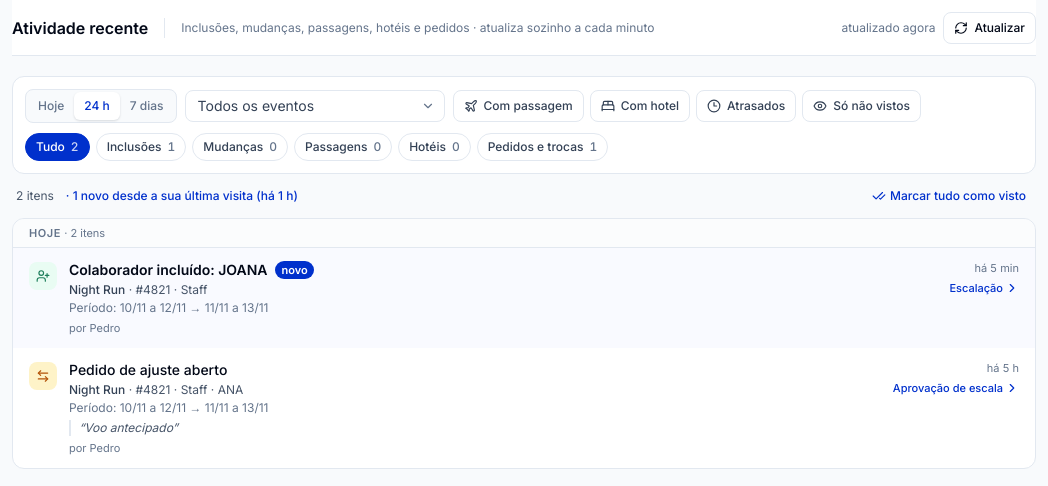
Test: Atividade recente › 'Só não vistos' esconde o que já foi visto; 'Marcar tudo como visto' tira os selos e grava a visita
The image size is (1048, 486).
Expected: the link with test id "atividade-a1" is shown, [13,248,1035,348]
Click the button with test id "filtro-nao-vistos" at (862, 106), box [802,90,921,122]
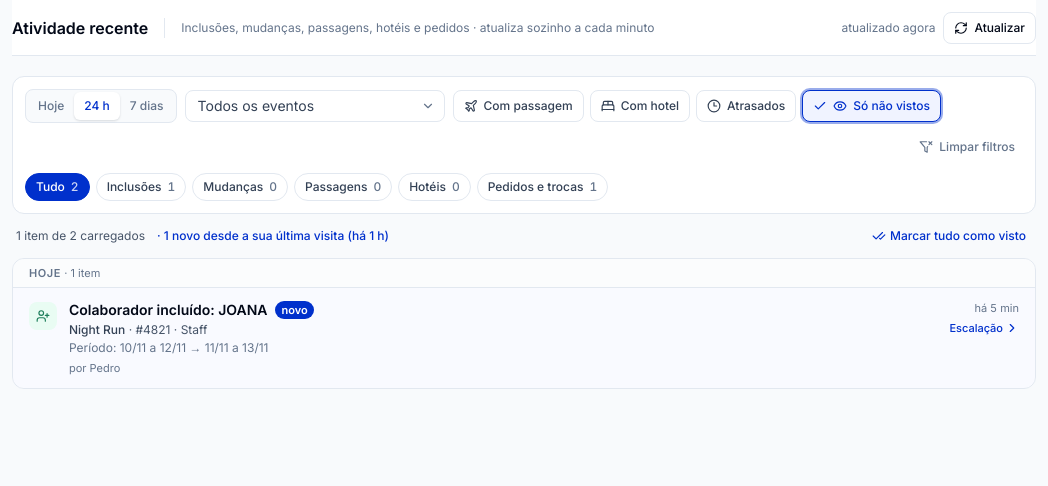
Expected: the link with test id "atividade-a1" is shown, [13,288,1035,388]
Expected: the link with test id "atividade-a2" is gone
Click the button with test id "filtro-nao-vistos" at (872, 106), box [802,90,941,122]
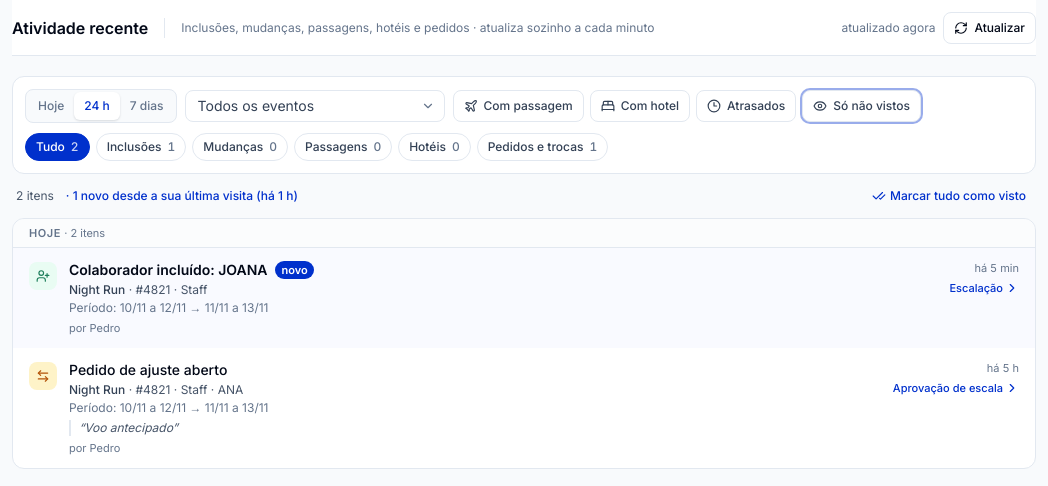
Click the button with test id "button-marcar-vistos" at (949, 196), box [866,186,1032,206]
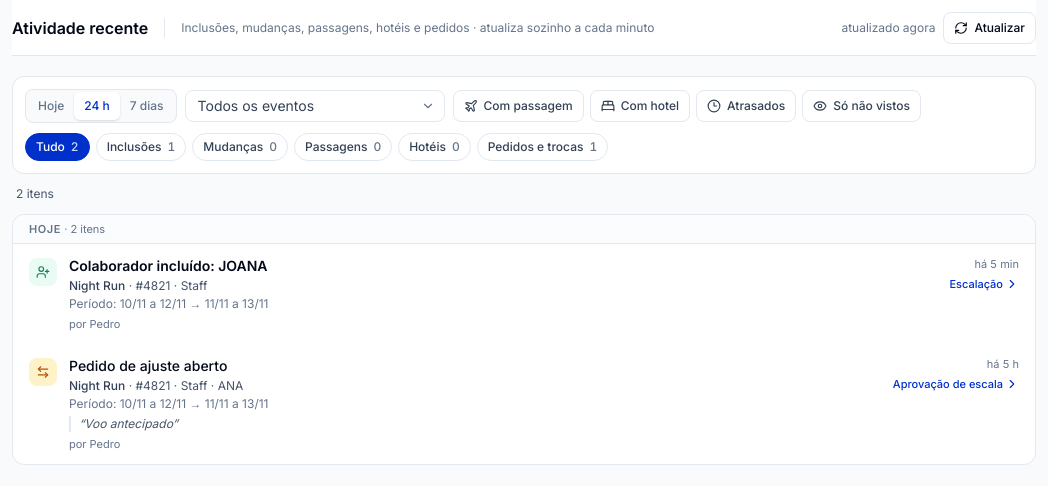
Expected: no elements with test id "selo-novo" are shown
